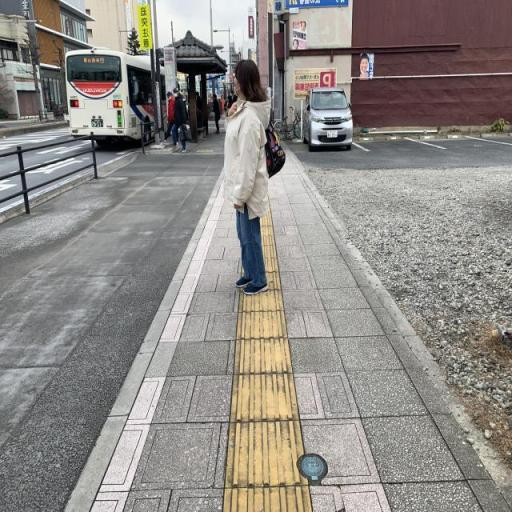line: (225, 420, 309, 488), (230, 373, 300, 422), (221, 484, 312, 511), (233, 337, 292, 373), (235, 311, 287, 339)
